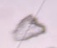microplastic: (12, 14, 47, 42)
